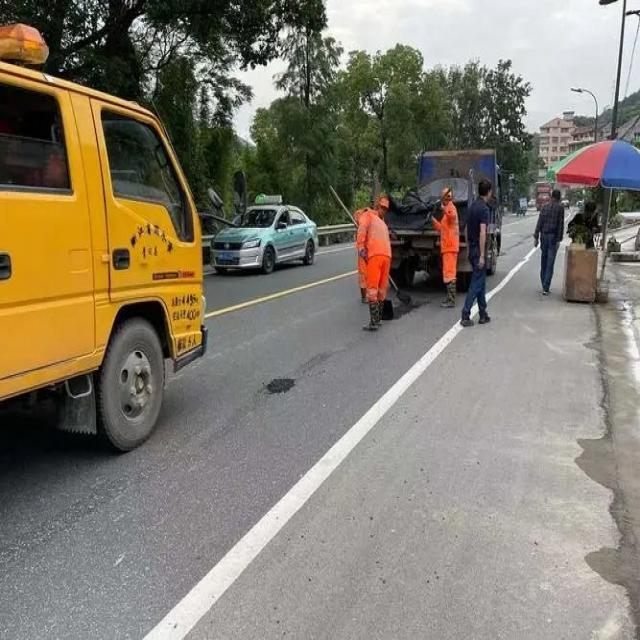Pothole: (258, 371, 306, 397)
